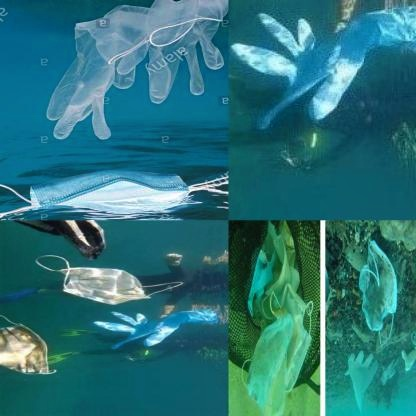Mask: (0, 147, 228, 220), (238, 280, 314, 413), (32, 254, 182, 307), (357, 229, 400, 347), (1, 313, 61, 383)
glove: (6, 0, 228, 149), (230, 1, 414, 132), (91, 311, 217, 350), (344, 340, 379, 416), (375, 354, 400, 384)
